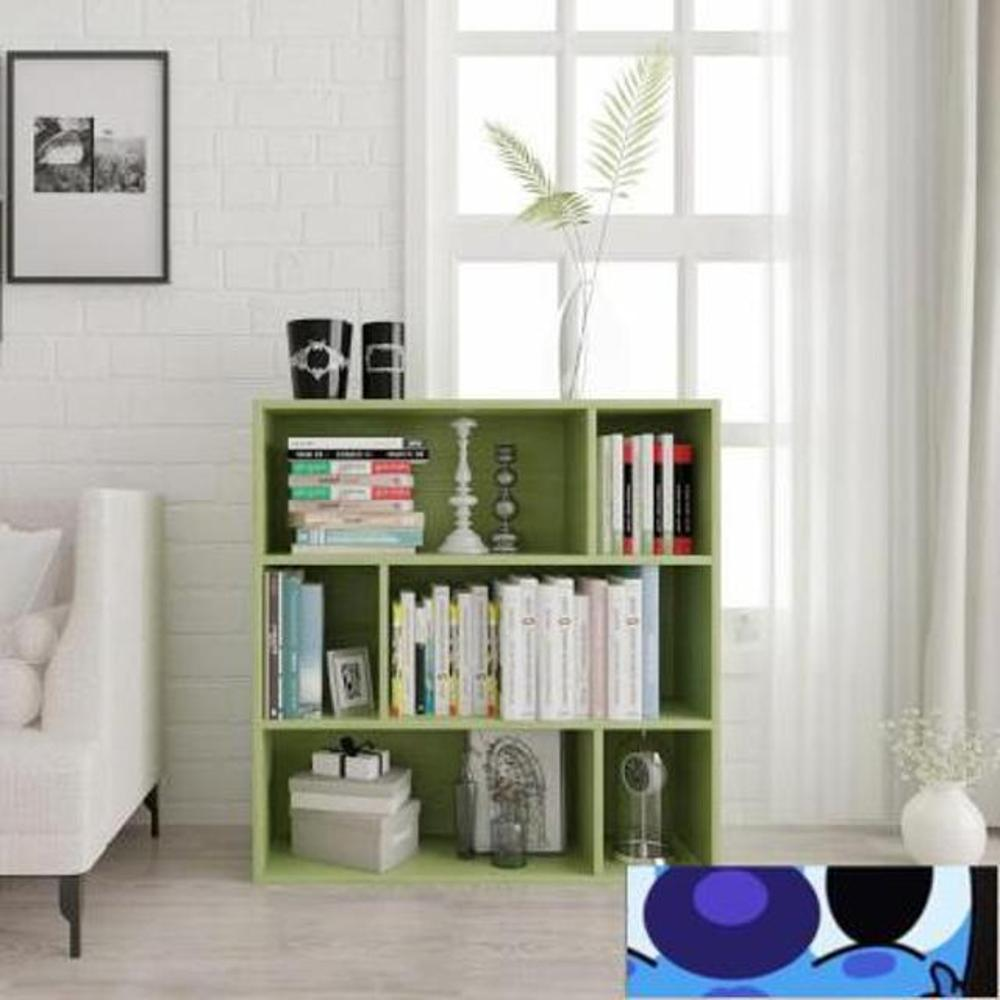lamp: (252, 395, 724, 884)
